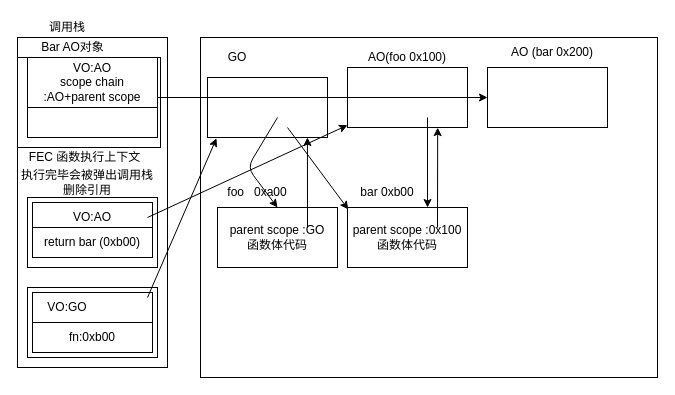
This 675x395 diagram has some shape labels left out. Here are the shapes that lost their labels. From the top down, the centre of each, then its label:
At point (267, 107): "Date String foo:0xa00 fn:0xb00".
At point (407, 97): "name:'foo' age:18 bar:0xb00".
At point (92, 122): "clg".
